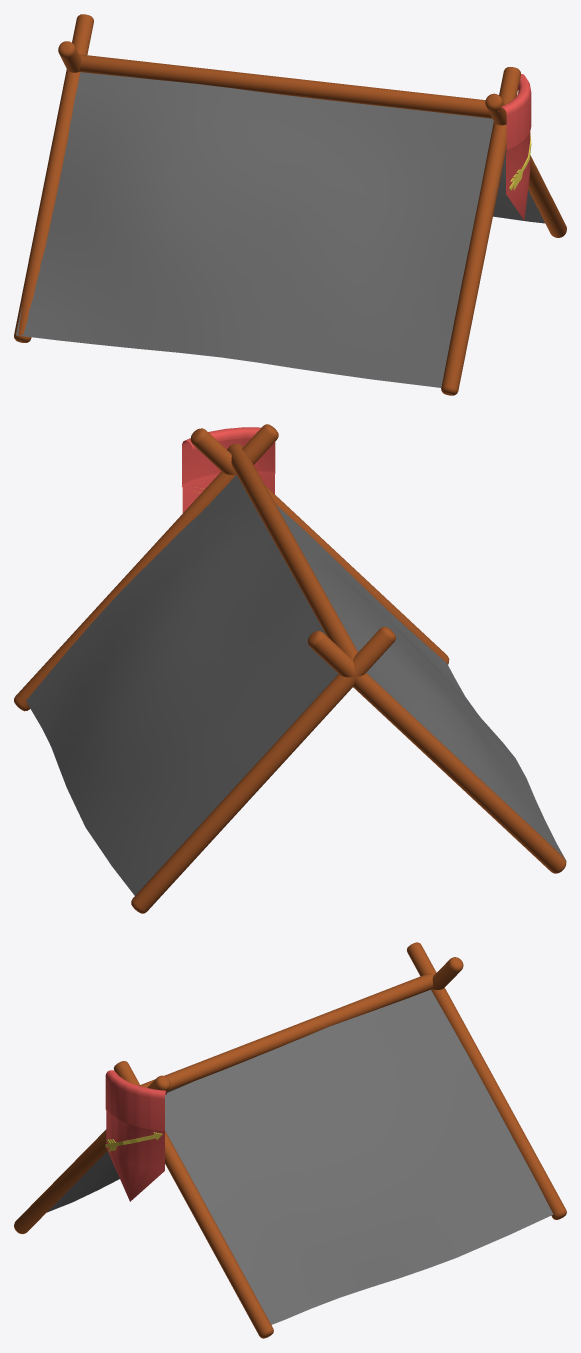
The model's file is arrow tent 1.fbx.
The picture shows the model from 3 angles, top to bottom: view 1: azimuth 30°, elevation 25°; view 2: azimuth 150°, elevation 25°; view 3: azimuth 270°, elevation 25°; orthographic projection. The views are drawn at different scales.
Parts seen in each view (by area): view 1: Plane.007, Cylinder.099; view 2: Plane.007, Cylinder.099; view 3: Plane.007, Cylinder.099.
Boxes of the visible parts, box(x1,y1,x2,y2) form: Plane.007: box(14, 14, 566, 395); Cylinder.099: box(498, 74, 531, 220); Plane.007: box(14, 424, 566, 913); Cylinder.099: box(181, 427, 275, 513); Plane.007: box(14, 942, 566, 1338); Cylinder.099: box(105, 1070, 166, 1201).
Bounding box in the file's own units: 4932 × 2151 × 4944.
